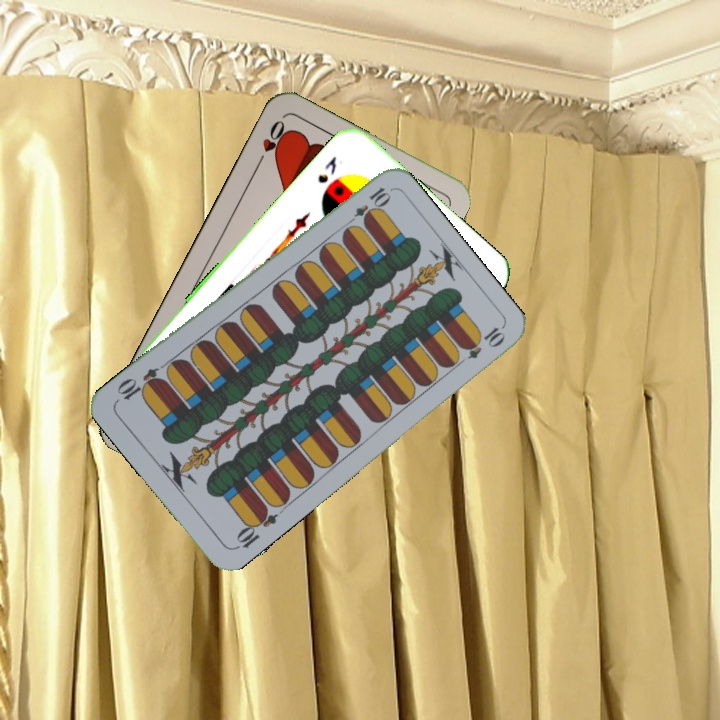E10: (231, 503, 280, 552), (342, 183, 393, 230)
HO: (253, 116, 291, 169)
SK: (313, 152, 345, 187)
